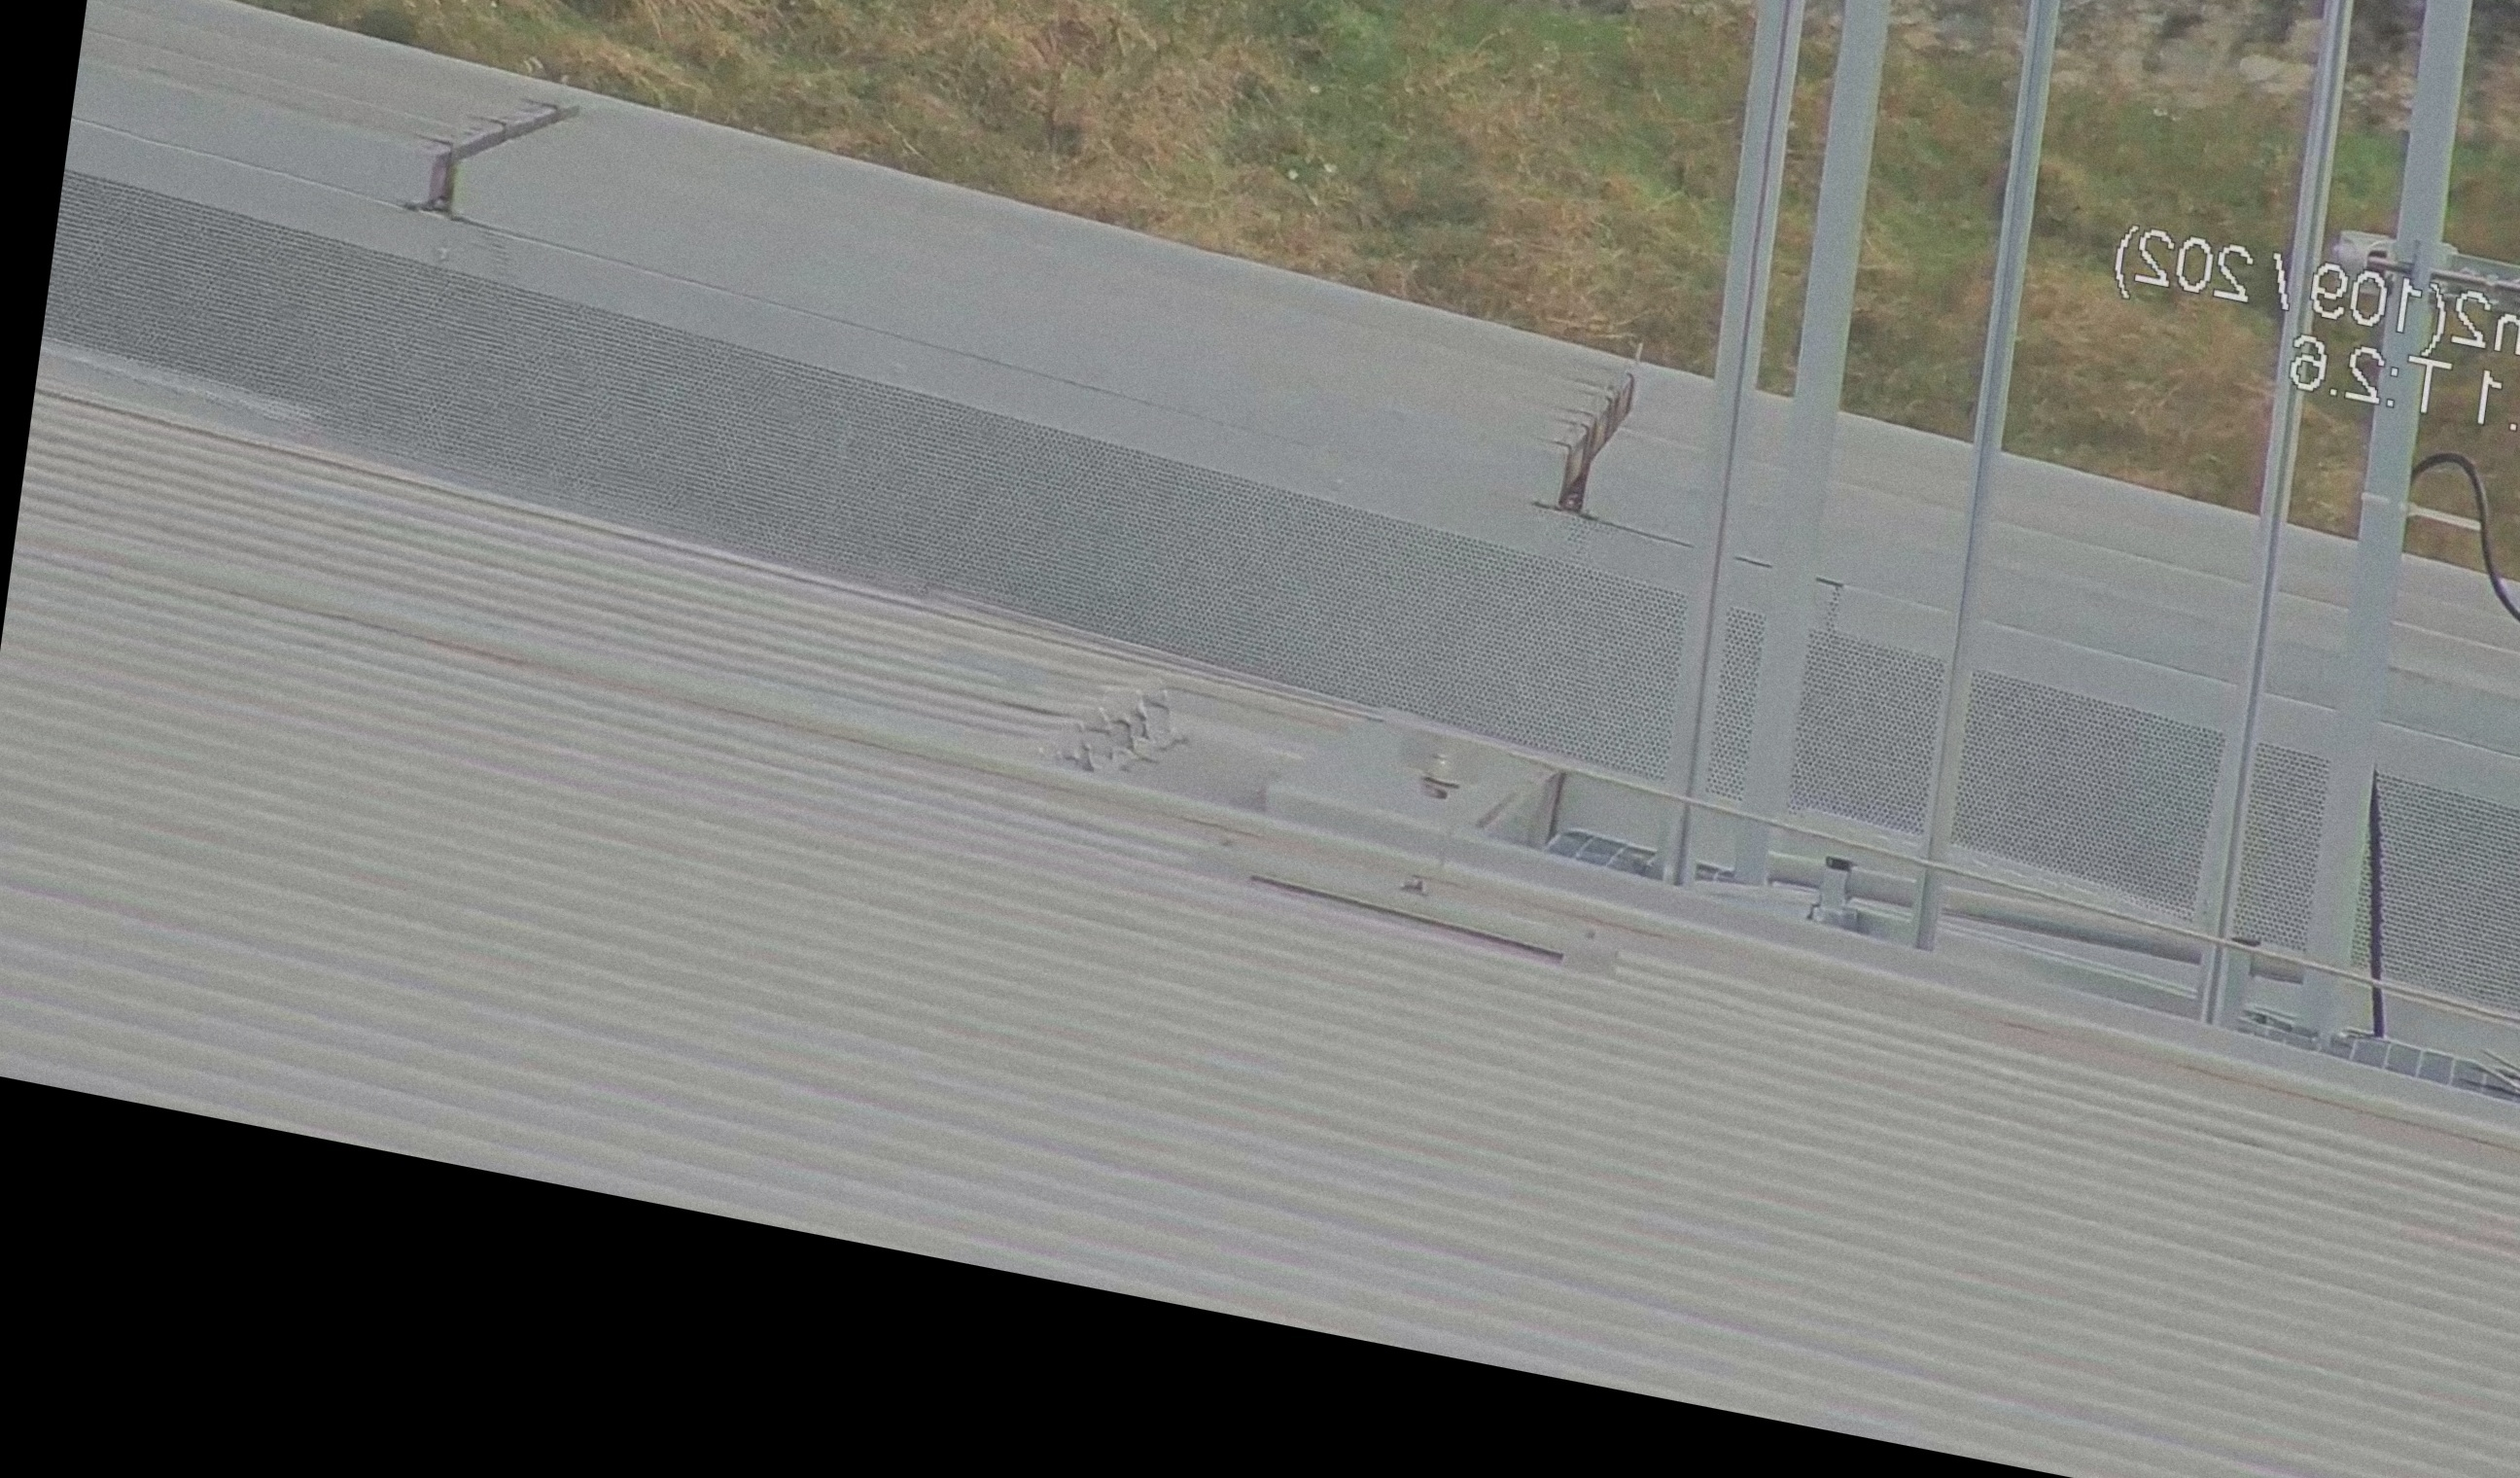Other: (1516, 326, 1660, 538)
